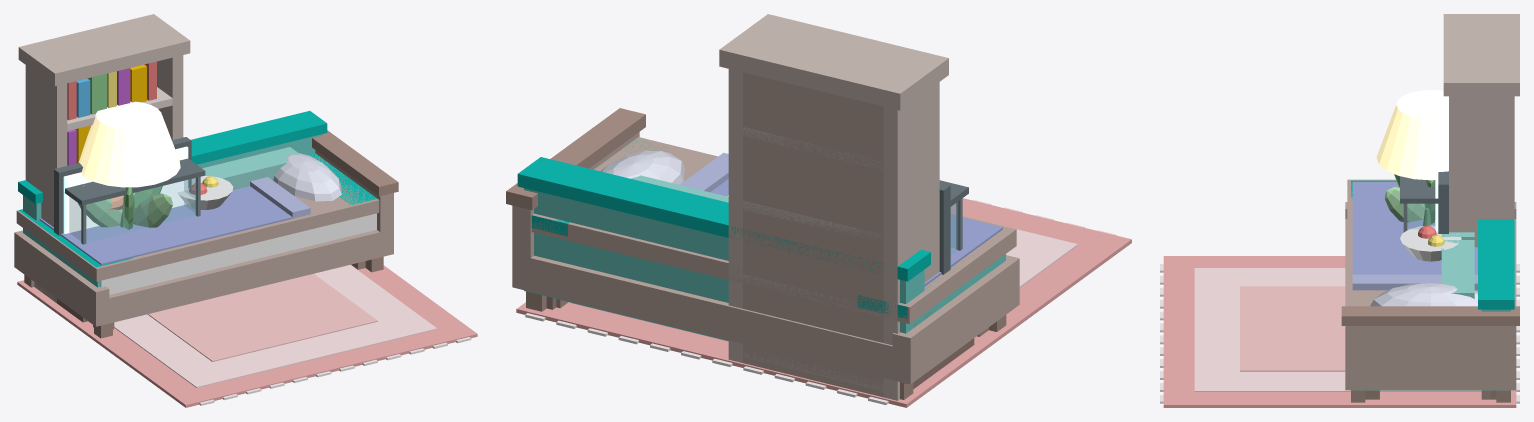
Rendered from furniture.glb.
3 views of the same model, side by side, from view 1: azimuth 30°, elevation 25°; view 2: azimuth 150°, elevation 25°; view 3: azimuth 270°, elevation 25° (orthographic). The views are drawn at different scales.
Parts seen in each view (by area): view 1: furn_rug_Core, furn_rug_Inner, furn_rug_Base, furn_bed_Frame, furn_books_Top, furn_bed_Quilt, furn_lamp_Shade, furn_table_Top, furn_books_SideL, furn_bed_Mattress, furn_books, furn_sofa_BackTop (+20 smaller); view 2: furn_books_Back, furn_bed_Frame, furn_rug_Base, furn_books_Top, furn_books_SideL, furn_sofa_Back, furn_table_Top, furn_sofa_BackTop, furn_bed_Foot, furn_books_SideR, furn_bed_HeadTop, furn_rug_Inner (+13 smaller); view 3: furn_rug_Base, furn_bed_Head, furn_rug_Inner, furn_rug_Core, furn_books_SideR, furn_books_Top, furn_lamp_Shade, furn_bed_Quilt, furn_bed_HeadTop, furn_sofa_BackTop, furn_bed_Pillow, furn_sofa_BackCushion1 (+8 smaller).
Part boxes in pixels (x1,y1,x2,y2): furn_rug_Core: (148, 273, 377, 361); furn_rug_Inner: (114, 265, 437, 387); furn_rug_Base: (17, 265, 477, 407); furn_bed_Frame: (99, 229, 390, 325); furn_books_Top: (18, 14, 190, 86); furn_bed_Quilt: (39, 186, 292, 265); furn_lamp_Shade: (78, 101, 180, 187); furn_table_Top: (16, 153, 379, 281); furn_books_SideL: (25, 65, 67, 302); furn_bed_Mattress: (100, 213, 376, 294); furn_books: (67, 61, 156, 165); furn_sofa_BackTop: (18, 111, 327, 203); furn_books_Back: (743, 72, 883, 397); furn_bed_Frame: (516, 254, 906, 383); furn_rug_Base: (516, 198, 1131, 407); furn_books_Top: (719, 14, 948, 110); furn_books_SideL: (883, 82, 939, 400); furn_sofa_Back: (524, 188, 924, 383); furn_table_Top: (531, 137, 1016, 324); furn_sofa_BackTop: (517, 157, 930, 281); furn_bed_Foot: (892, 255, 1019, 384); furn_books_SideR: (728, 69, 742, 362); furn_bed_HeadTop: (506, 108, 645, 209); furn_rug_Inner: (570, 229, 1077, 341); furn_rug_Base: (1163, 256, 1516, 407); furn_bed_Head: (1345, 326, 1516, 390); furn_rug_Inner: (1194, 268, 1481, 391); furn_rug_Core: (1240, 286, 1345, 371); furn_books_SideR: (1449, 96, 1514, 247); furn_books_Top: (1443, 14, 1519, 96); furn_lamp_Shade: (1376, 90, 1448, 180); furn_bed_Quilt: (1352, 182, 1477, 274); furn_bed_HeadTop: (1341, 306, 1519, 325); furn_sofa_BackTop: (1478, 219, 1514, 309); furn_bed_Pillow: (1370, 283, 1477, 306); furn_sofa_BackCushion1: (1441, 240, 1474, 298).
Size of the model in its own units: 2 by 1.5 by 1.98.
